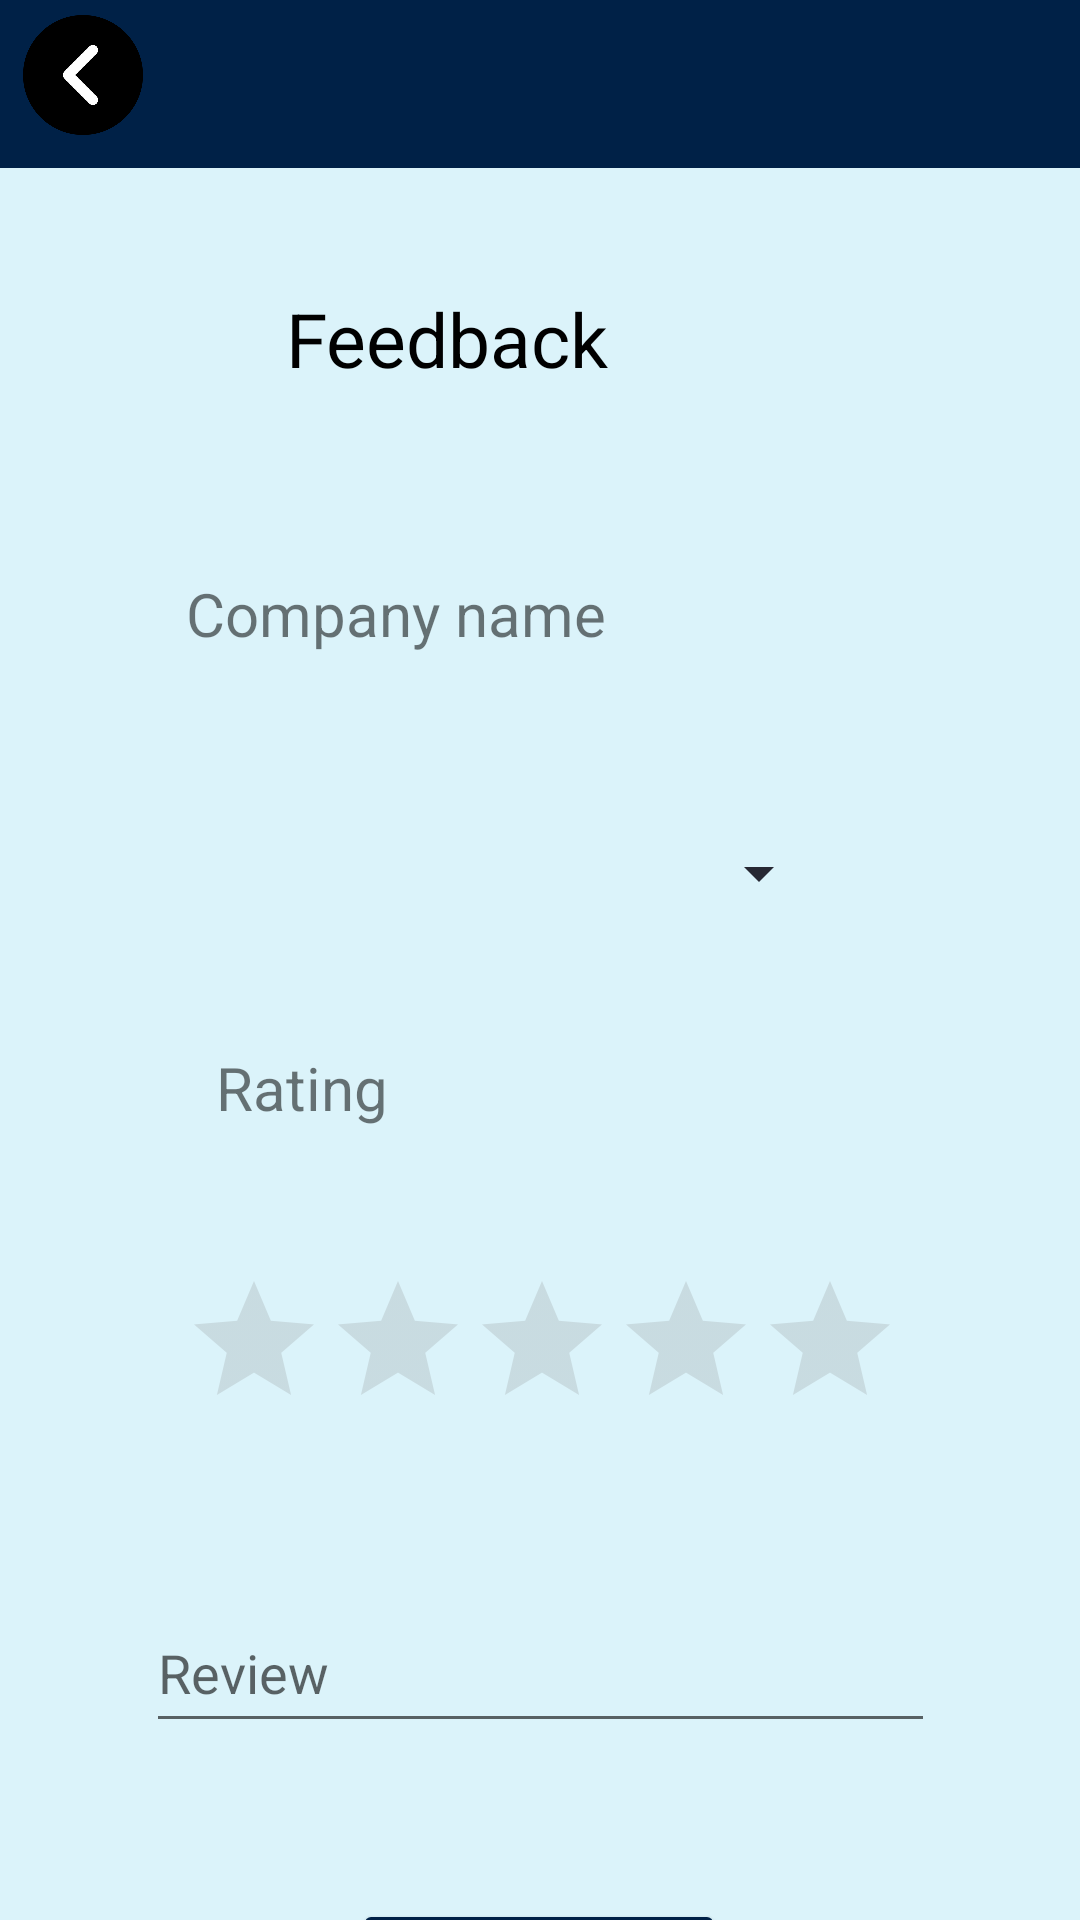

Screen size 1080px x 1920px. Icon name, then its center in pixels as point (x, y):
back: point (83, 75)
